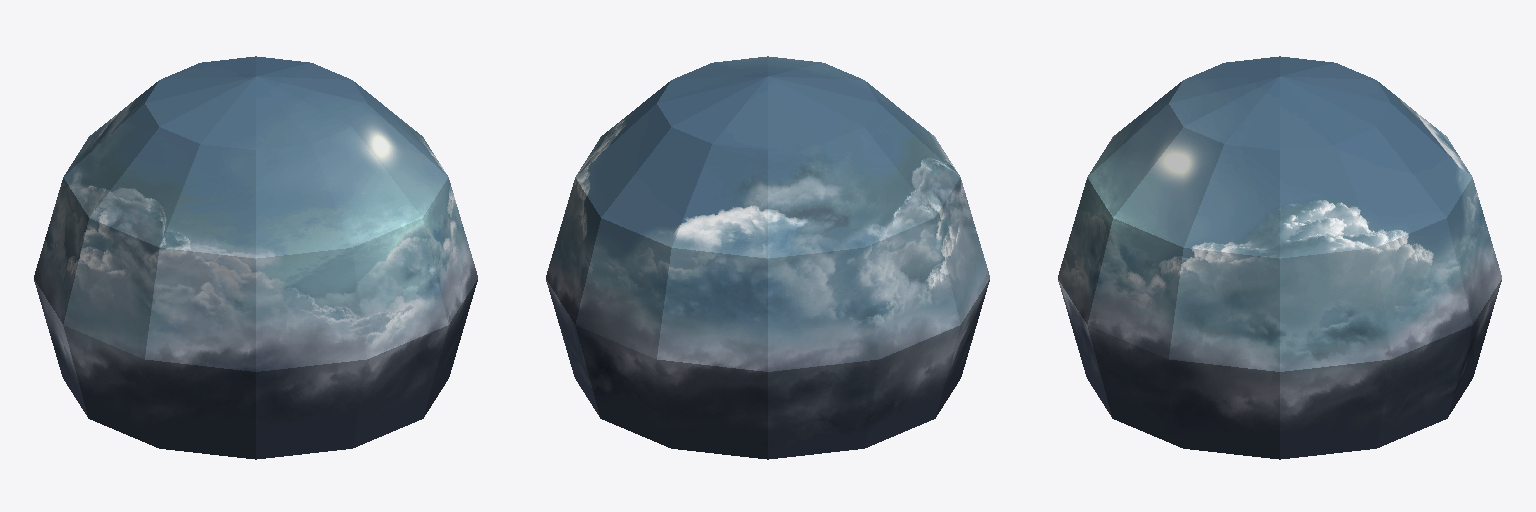
3 views of the same model, side by side, from view 1: azimuth 30°, elevation 25°; view 2: azimuth 150°, elevation 25°; view 3: azimuth 270°, elevation 25° (orthographic).
Visible parts, largest first — view 1: Sphere001; view 2: Sphere001; view 3: Sphere001.
Boxes of the visible parts, x1=… form: Sphere001: x1=34, y1=56, x2=477, y2=459; Sphere001: x1=546, y1=56, x2=989, y2=459; Sphere001: x1=1058, y1=56, x2=1501, y2=459.
Bounding box in the file's own units: 10240 × 9120 × 10240.
1 materials, 1 textured.